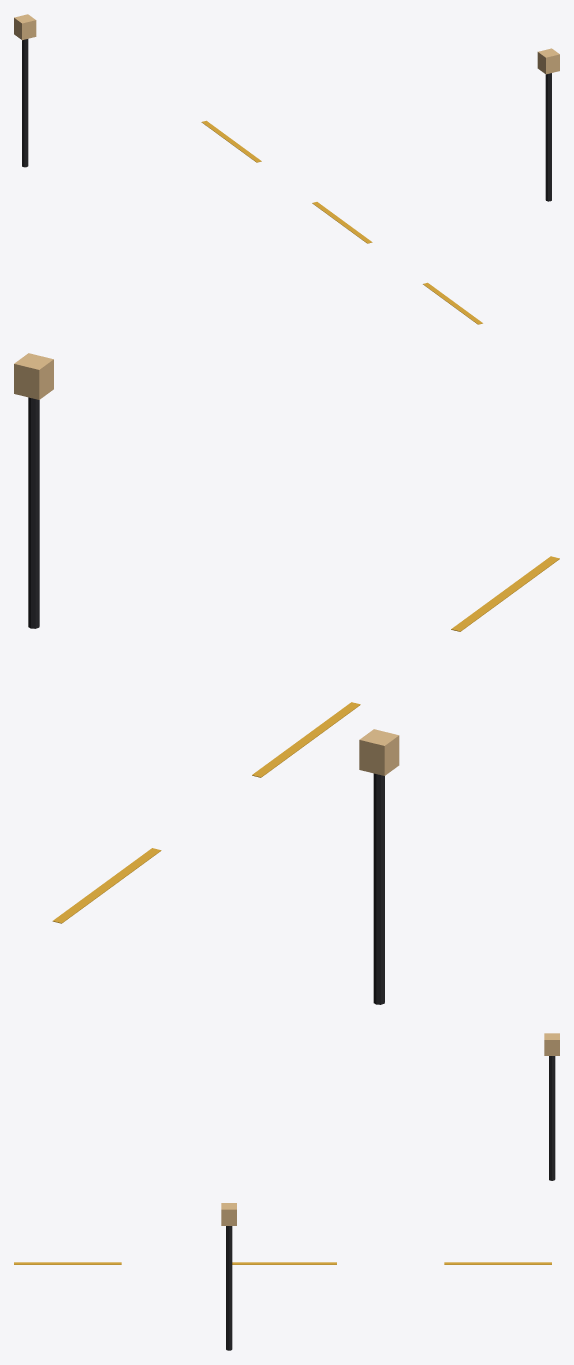
File: chunk_0_3.glb
3 renders of one model, top to bottom at view 1: azimuth 30°, elevation 25°; view 2: azimuth 150°, elevation 25°; view 3: azimuth 270°, elevation 25°, orthographic. The views are drawn at different scales.
Visible parts, largest first — view 1: chunk_0_3__lamp, chunk_0_3__ground; view 2: chunk_0_3__lamp, chunk_0_3__ground; view 3: chunk_0_3__lamp, chunk_0_3__ground.
Part boxes in pixels (<box>): chunk_0_3__lamp: <box>14,14,559,201</box>; chunk_0_3__ground: <box>201,120,482,324</box>; chunk_0_3__lamp: <box>14,353,399,1004</box>; chunk_0_3__ground: <box>52,556,559,923</box>; chunk_0_3__lamp: <box>221,1033,559,1350</box>; chunk_0_3__ground: <box>14,1262,551,1264</box>.
Bounding box in the file's own units: 11.64 × 4.4 × 15.22.
